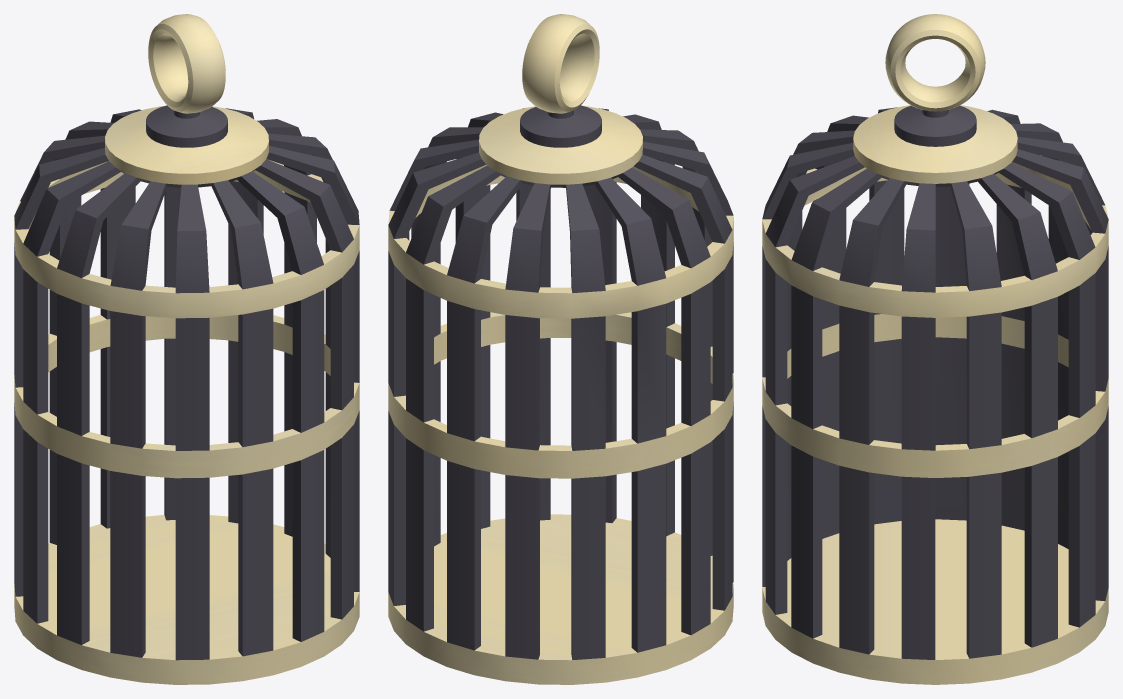
Rendered from GreekJailcage.fbx.
3 views of the same model, side by side, from view 1: azimuth 30°, elevation 25°; view 2: azimuth 150°, elevation 25°; view 3: azimuth 270°, elevation 25° (orthographic).
Visible parts, largest first — view 1: Circle; view 2: Circle; view 3: Circle.
Boxes of the visible parts, x1=… form: Circle: x1=14, y1=14, x2=359, y2=684; Circle: x1=388, y1=14, x2=733, y2=684; Circle: x1=762, y1=14, x2=1108, y2=684.
Size of the model in its own units: 600 by 1136 by 600.
1 material, 1 textured.
